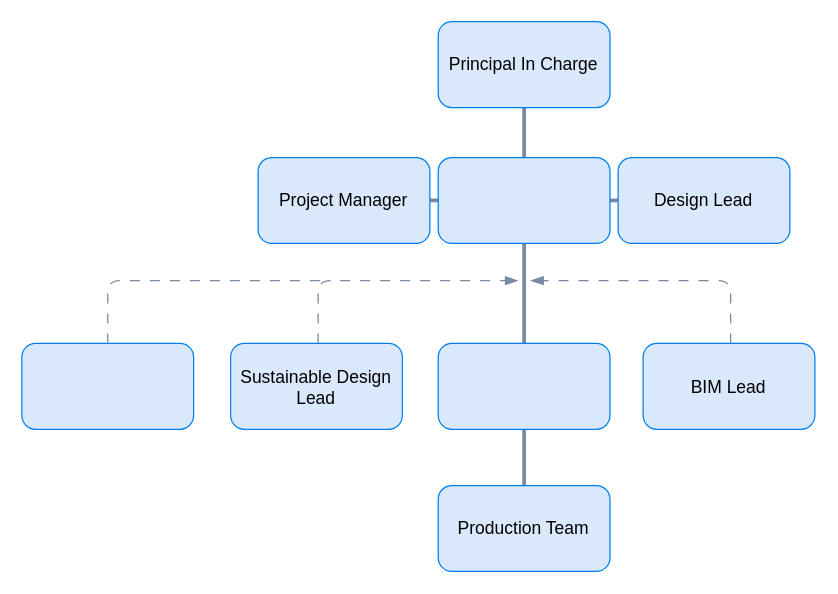
Image size: 838x594. Some labels were removed from this diagram. The centre of each missing label's shape, as x and y in pixels:
"Project Architect / Project Landscape Architect / Project Interior Designer" goes at [523,385].
"Quality Reviewer" goes at [107,385].
"Technical Lead" goes at [523,199].
